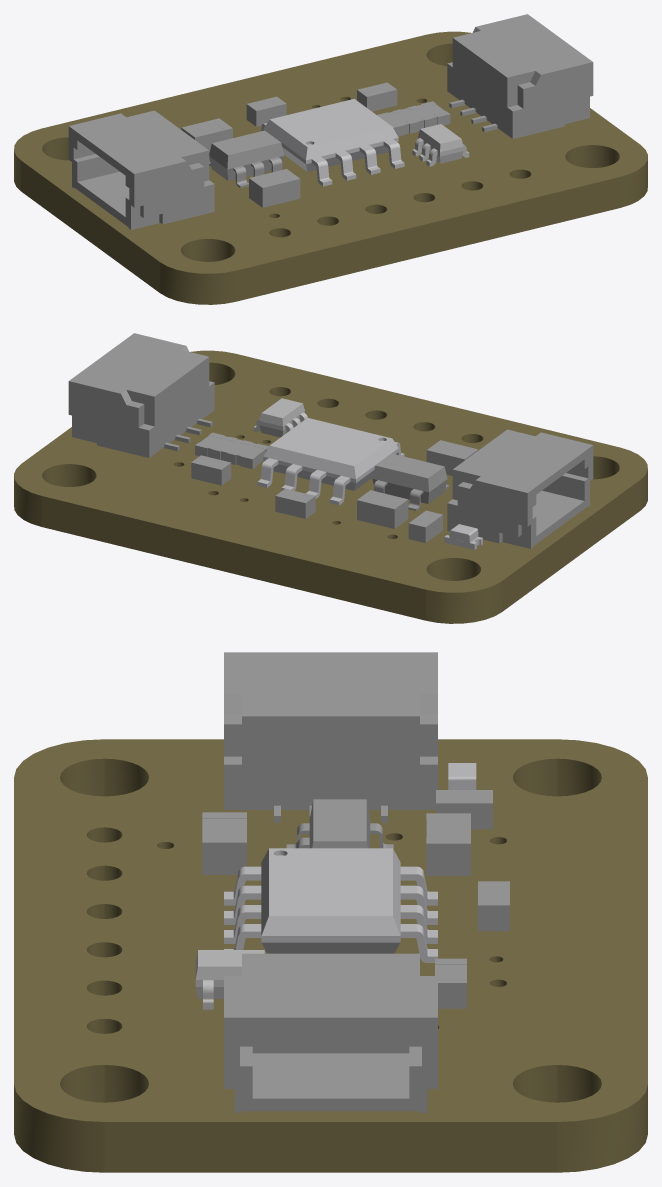
File: ada-6357.glb
3 renders of one model, top to bottom at view 1: azimuth 30°, elevation 25°; view 2: azimuth 150°, elevation 25°; view 3: azimuth 270°, elevation 25°, orthographic. The views are drawn at different scales.
Visible parts, largest first — view 1: 0.16666666666666666_0.16666666666666666_0.08333333333333333_, 0.3333333333333333_0.3333333333333333_0.3333333333333333_0, 0.5833333333333334_0.5833333333333334_0.5833333333333334_0.8, 0.5_0.5_0.5_0.85; view 2: 0.16666666666666666_0.16666666666666666_0.08333333333333333_, 0.3333333333333333_0.3333333333333333_0.3333333333333333_0, 0.5833333333333334_0.5833333333333334_0.5833333333333334_0.8, 0.5_0.5_0.5_0.85; view 3: 0.16666666666666666_0.16666666666666666_0.08333333333333333_, 0.3333333333333333_0.3333333333333333_0.3333333333333333_0, 0.5833333333333334_0.5833333333333334_0.5833333333333334_0.8, 0.5_0.5_0.5_0.85.
Boxes of the visible parts, x1,y1,x2,y2 form: 0.16666666666666666_0.16666666666666666_0.08333333333333333_: (14,31,647,304); 0.3333333333333333_0.3333333333333333_0.3333333333333333_0: (68,14,593,229); 0.5833333333333334_0.5833333333333334_0.5833333333333334_0.8: (261,99,404,186); 0.5_0.5_0.5_0.85: (412,124,469,166); 0.16666666666666666_0.16666666666666666_0.08333333333333333_: (14,350,647,623); 0.3333333333333333_0.3333333333333333_0.3333333333333333_0: (68,333,593,548); 0.5833333333333334_0.5833333333333334_0.5833333333333334_0.8: (257,418,482,549); 0.5_0.5_0.5_0.85: (253,398,307,437); 0.16666666666666666_0.16666666666666666_0.08333333333333333_: (14,739,647,1172); 0.3333333333333333_0.3333333333333333_0.3333333333333333_0: (202,652,509,1112); 0.5833333333333334_0.5833333333333334_0.5833333333333334_0.8: (224,763,476,962); 0.5_0.5_0.5_0.85: (195,950,265,1009).
Bounding box in the file's own units: 2.54 × 0.453 × 1.78.
